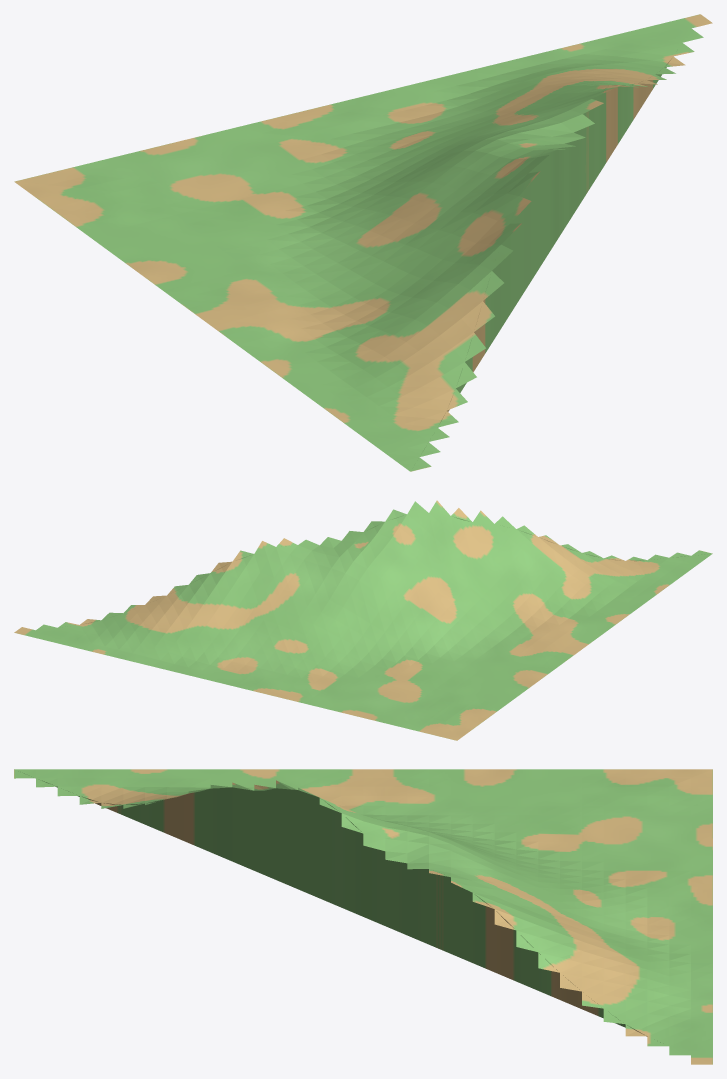
File: Grass_Hills_11_SW.obj
The picture shows the model from 3 angles, top to bottom: view 1: azimuth 30°, elevation 25°; view 2: azimuth 150°, elevation 25°; view 3: azimuth 270°, elevation 25°; orthographic projection. The views are drawn at different scales.
Bounding box in the file's own units: 10 × 1.75 × 10.
Materials: 1 (1 with a texture image).
